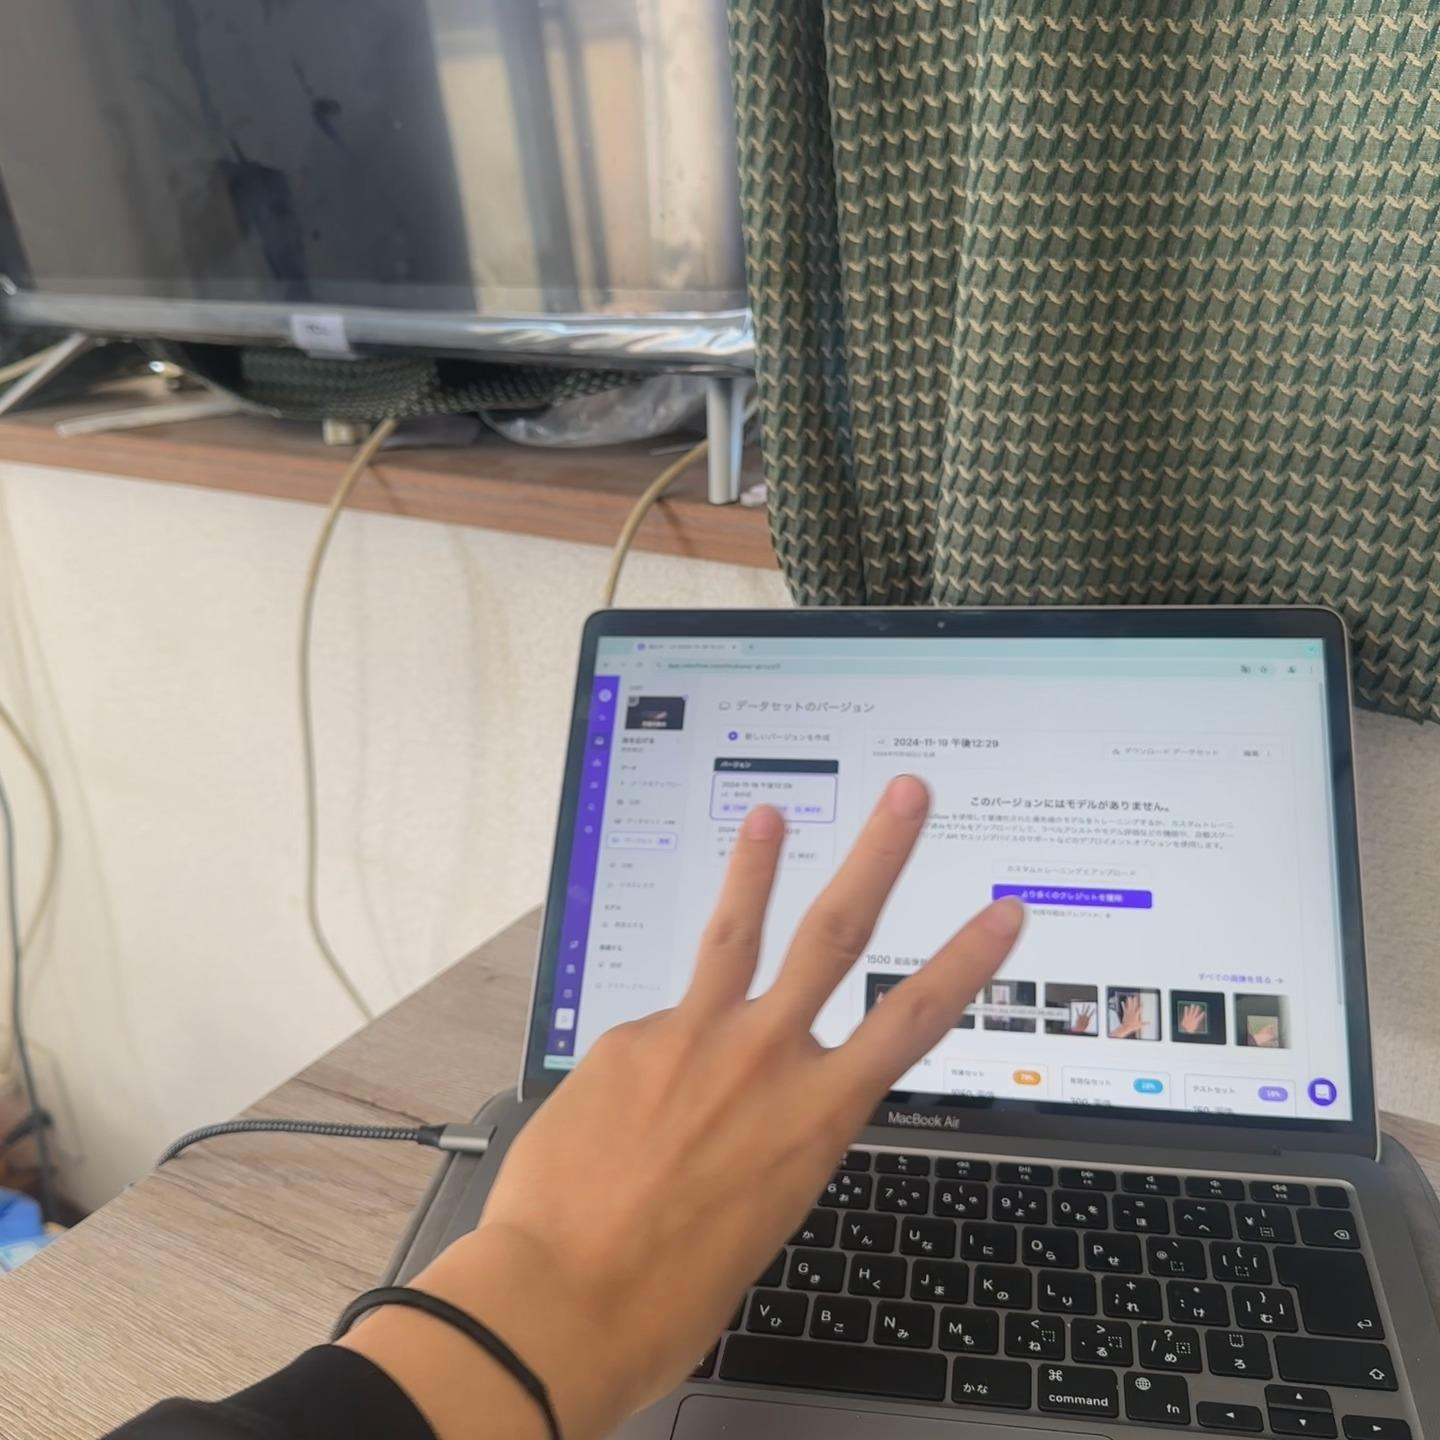without_gloves: (455, 688, 1172, 1440)
